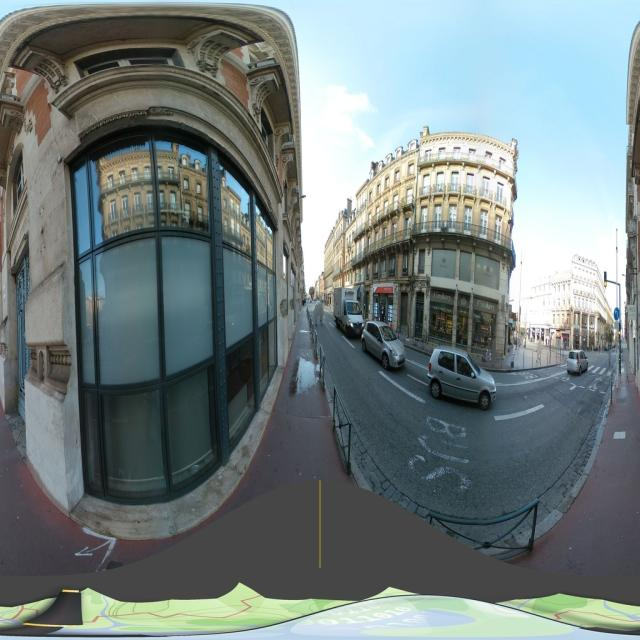car: (427, 344, 496, 412), (362, 320, 407, 371), (566, 349, 588, 376)
